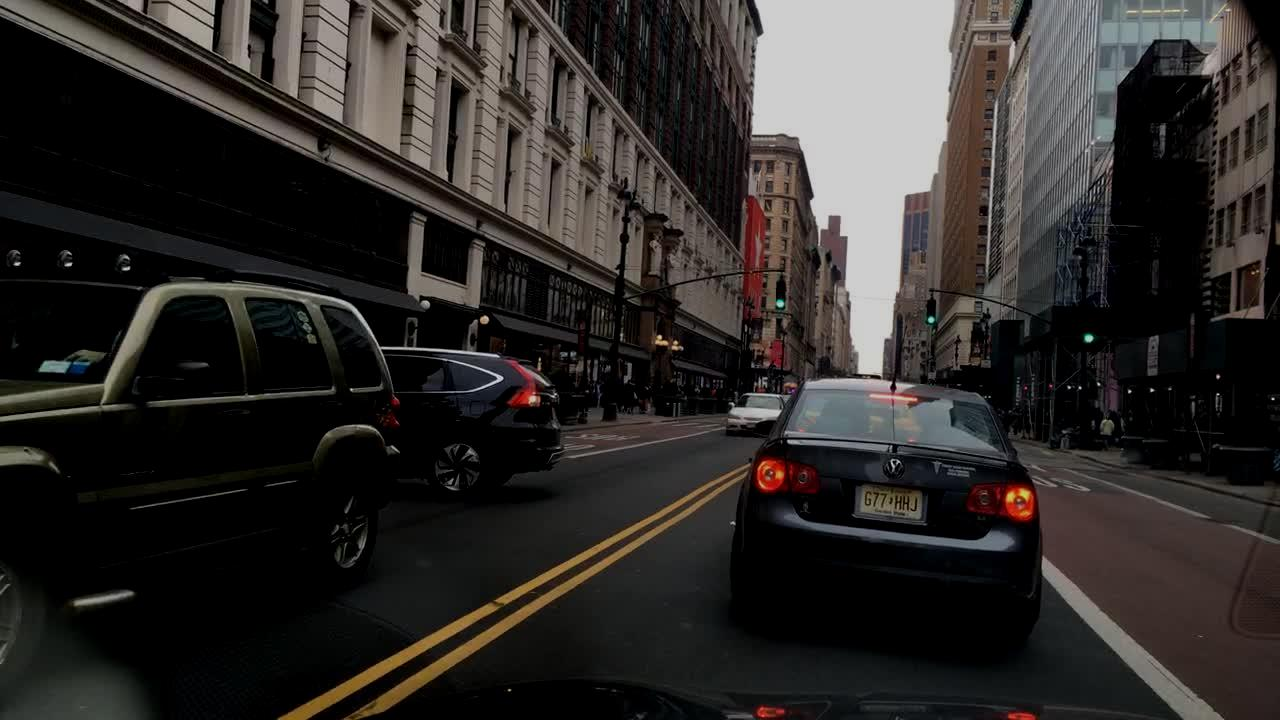Volkswagen: (879, 456, 909, 480)
